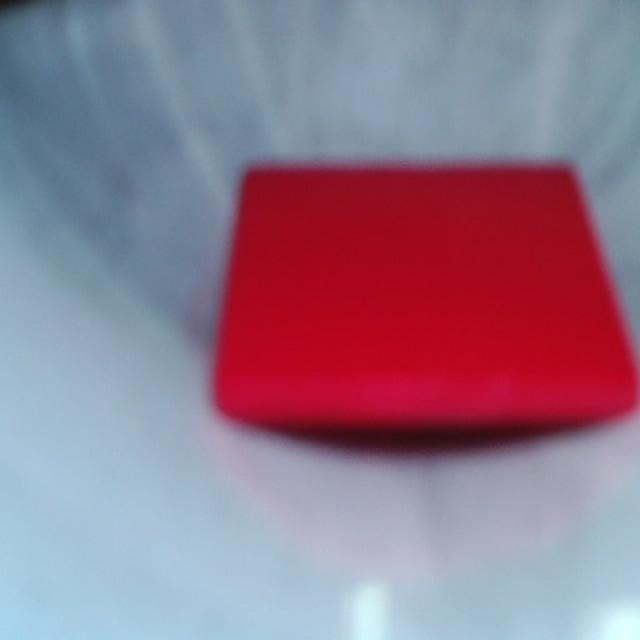square: (215, 167, 636, 424)
